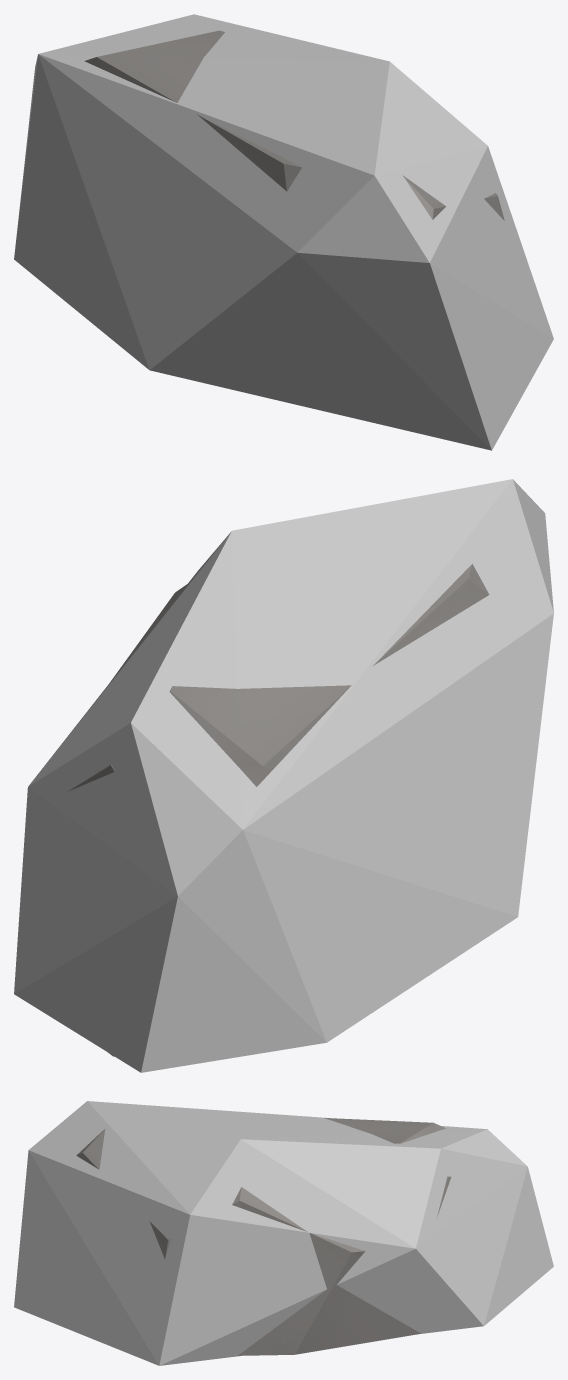
File: SM_Rock_06.fbx
The picture shows the model from 3 angles, top to bottom: view 1: azimuth 30°, elevation 25°; view 2: azimuth 150°, elevation 25°; view 3: azimuth 270°, elevation 25°; orthographic projection. The views are drawn at different scales.
Visible parts, largest first — view 1: SM_Rock_06_ConvexHulls, SM_Rock_06; view 2: SM_Rock_06_ConvexHulls, SM_Rock_06; view 3: SM_Rock_06_ConvexHulls, SM_Rock_06.
Part boxes in pixels (x1,y1,x2,y2): SM_Rock_06_ConvexHulls: (14,14,553,450); SM_Rock_06: (84,30,504,220); SM_Rock_06_ConvexHulls: (14,479,553,1072); SM_Rock_06: (68,564,489,1056); SM_Rock_06_ConvexHulls: (14,1101,553,1365); SM_Rock_06: (76,1118,451,1355).
Size of the model in its own units: 17.81 by 33.62 by 12.98.
2 materials, 1 textured.
